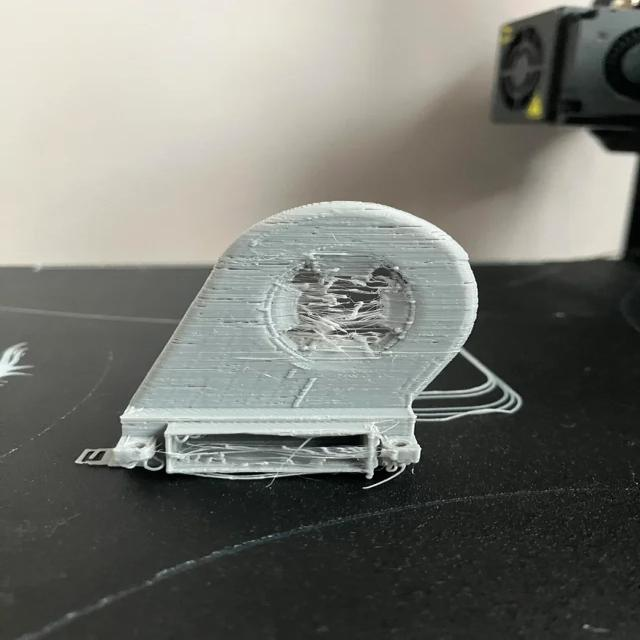Stringing: (300, 276, 382, 332)
